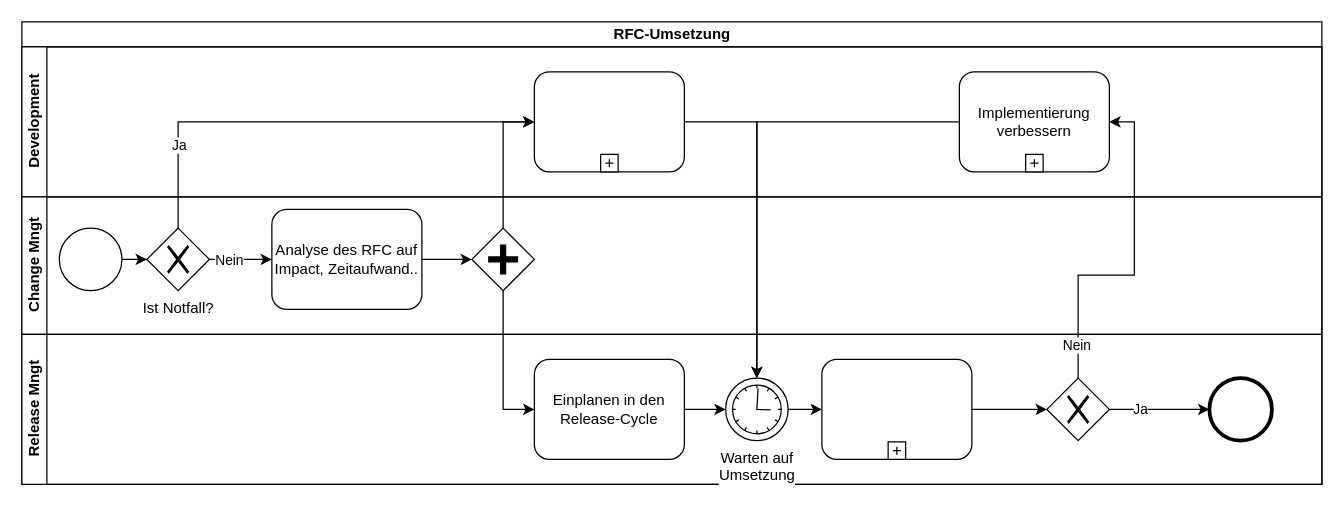
The diagram is 1344 pixels wide and 508 high, and some of its shapes have lost their labels. The centre of each missing label's shape, as x and y in pixels:
Abnahmetests: the point at 896,408
Freigeben zur Einführung: the point at 1240,409
RFC umsetzen: the point at 608,121
RFC wird erhalten: the point at 90,259
Tests befriedigend?: the point at 1077,409
